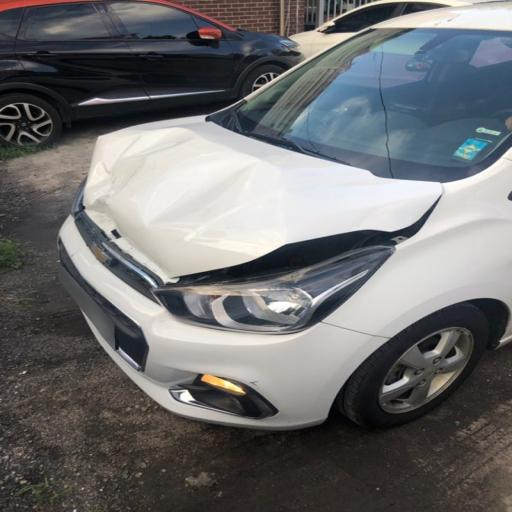broken: (237, 295, 444, 377)
dent: (70, 127, 310, 274)
